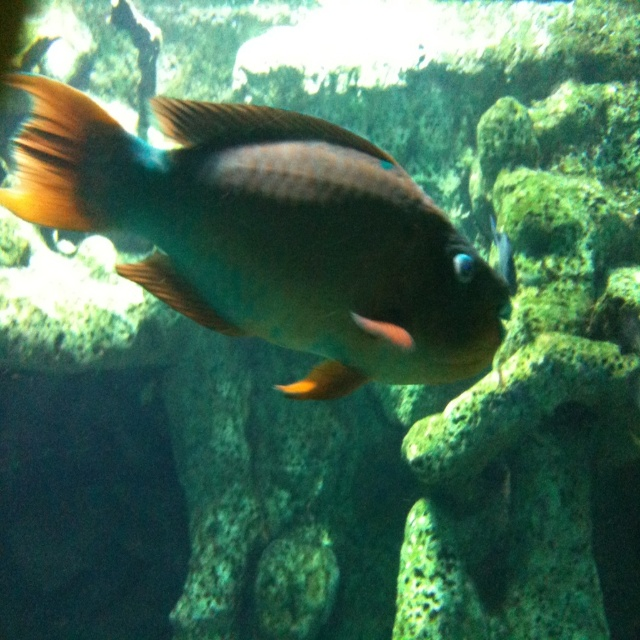Fish: (18, 62, 512, 421)
